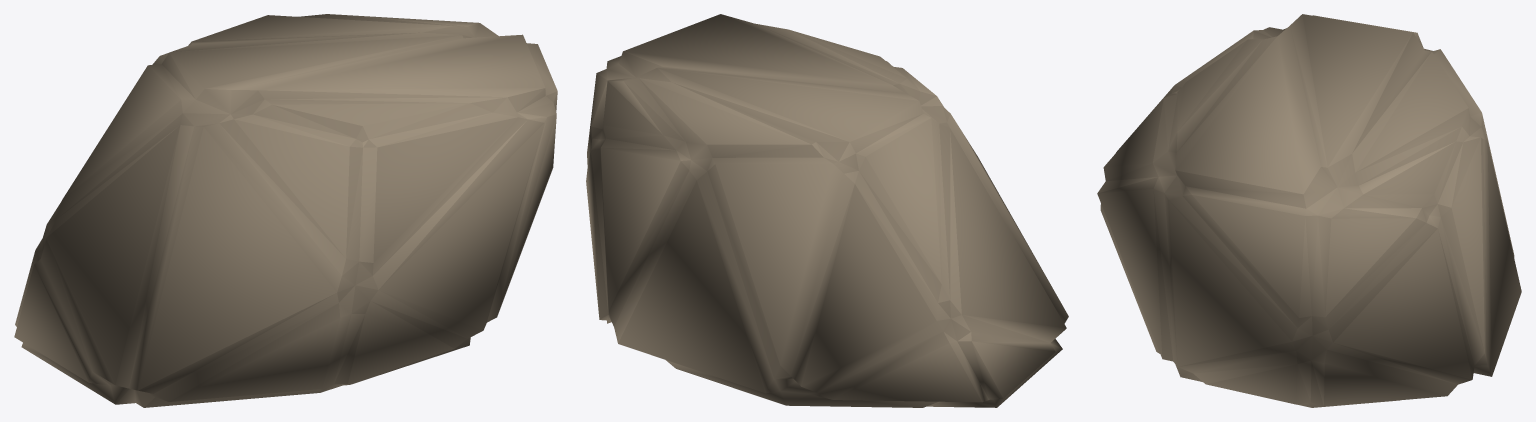
File: Granit_V2_7_LOD0.fbx
The picture shows the model from 3 angles, left to right: view 1: azimuth 30°, elevation 25°; view 2: azimuth 150°, elevation 25°; view 3: azimuth 270°, elevation 25°; orthographic projection. The views are drawn at different scales.
Parts seen in each view (by area): view 1: Granit_V2_7; view 2: Granit_V2_7; view 3: Granit_V2_7.
Part boxes in pixels (bbox=[...]): Granit_V2_7: bbox=[14, 14, 557, 407]; Granit_V2_7: bbox=[586, 14, 1068, 407]; Granit_V2_7: bbox=[1097, 14, 1521, 407].
Size of the model in its own units: 14.28 by 7.31 by 10.69.
